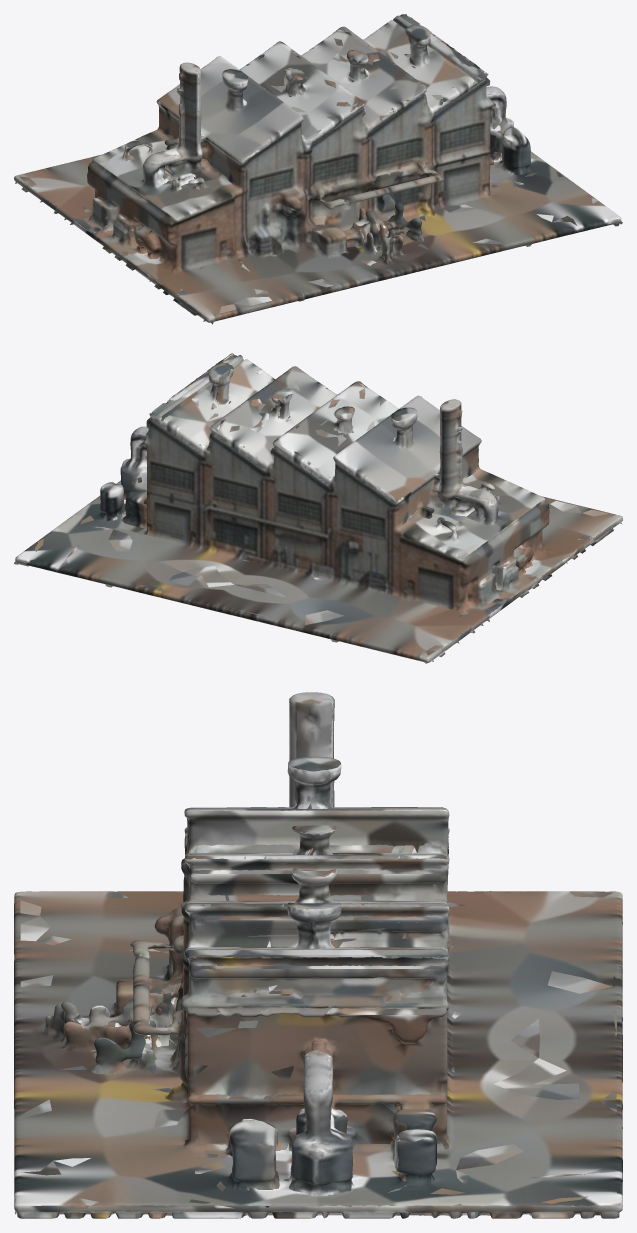
Rendered from manufacturing_hall.glb.
3 views of the same model, one above another, from view 1: azimuth 30°, elevation 25°; view 2: azimuth 150°, elevation 25°; view 3: azimuth 270°, elevation 25° (orthographic). The views are drawn at different scales.
Parts seen in each view (by area): view 1: geometry_0; view 2: geometry_0; view 3: geometry_0.
Part boxes in pixels (x1,y1,x2,y2): geometry_0: (14, 14, 622, 324); geometry_0: (14, 353, 622, 663); geometry_0: (14, 692, 622, 1218).
Bounding box in the file's own units: 2.02 × 0.7849 × 1.63.
1 material, 1 textured.
